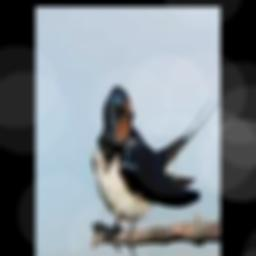Swallow: (93, 86, 220, 249)
